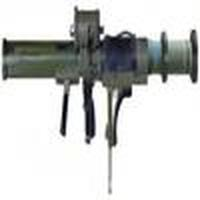gun: (1, 36, 200, 96)
